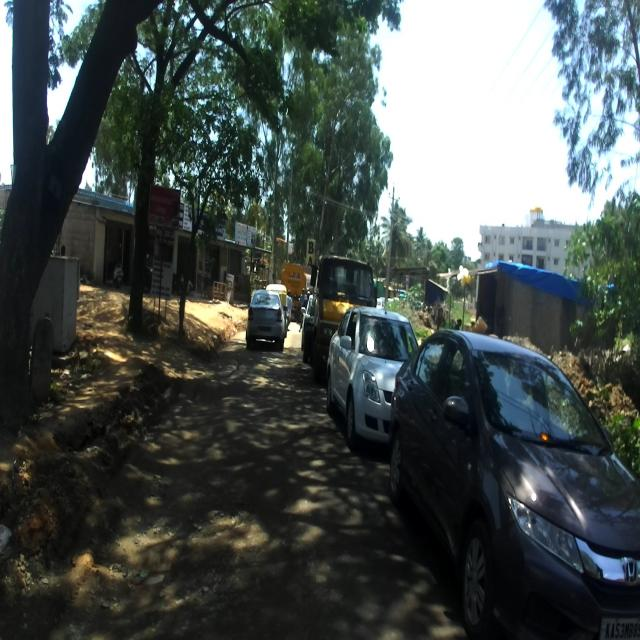Car_Honda: (387, 323, 639, 638)
Car_Maruti-Suzuki: (324, 305, 420, 451)
Car_Toyota: (245, 289, 287, 352)
